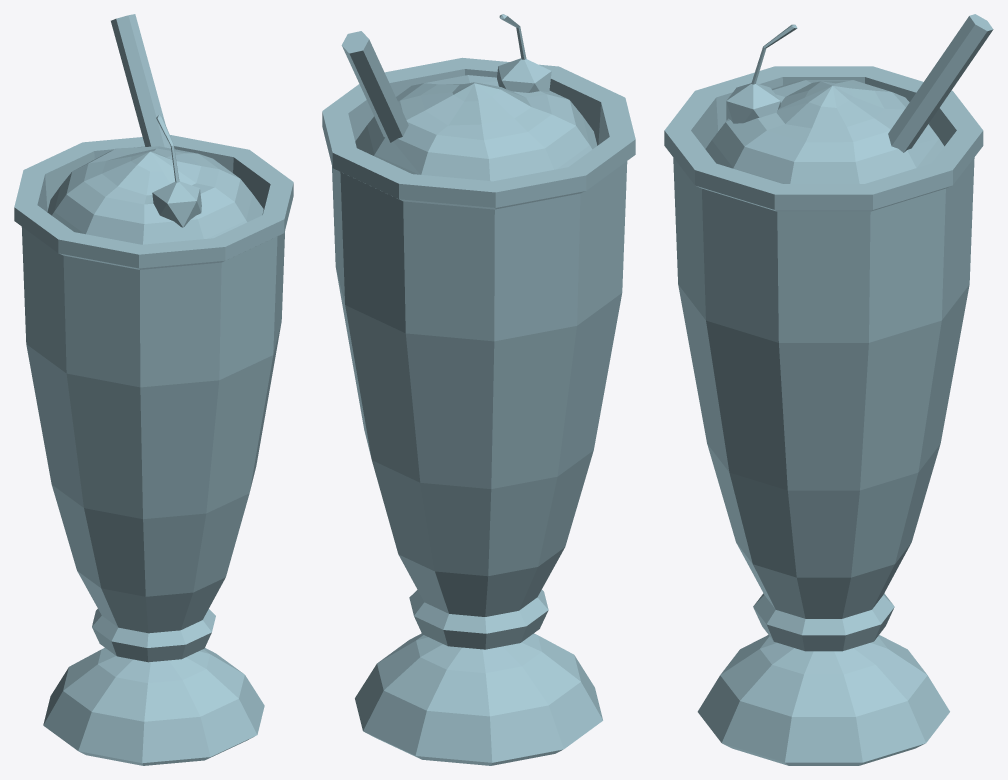
The model's file is cc0-milkshake-lod1.glb.
3 views of the same model, side by side, from view 1: azimuth 30°, elevation 25°; view 2: azimuth 150°, elevation 25°; view 3: azimuth 270°, elevation 25° (orthographic). The views are drawn at different scales.
Visible parts, largest first — view 1: part_0; view 2: part_0; view 3: part_0.
Boxes of the visible parts, left/top/right/bottom form: part_0: left=14, top=14, right=293, bottom=765; part_0: left=322, top=14, right=635, bottom=765; part_0: left=664, top=14, right=993, bottom=765.
Size of the model in its own units: 0.7046 by 1.86 by 0.7645.
